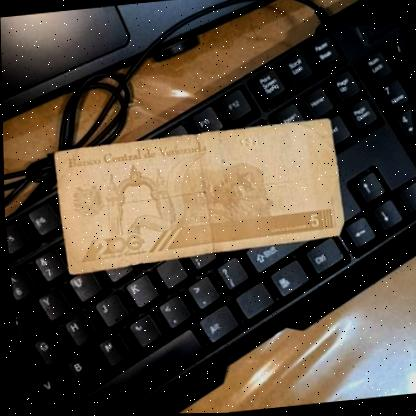five-back-vef: (51, 119, 345, 275)
